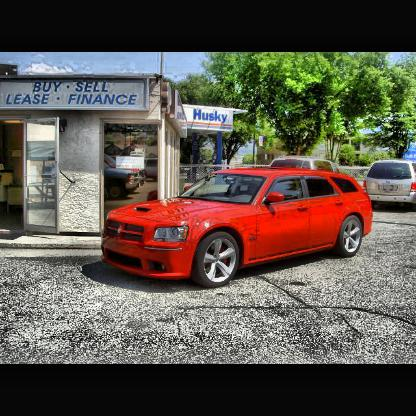Dodge Magnum Wagon 2008: (100, 168, 374, 290)
